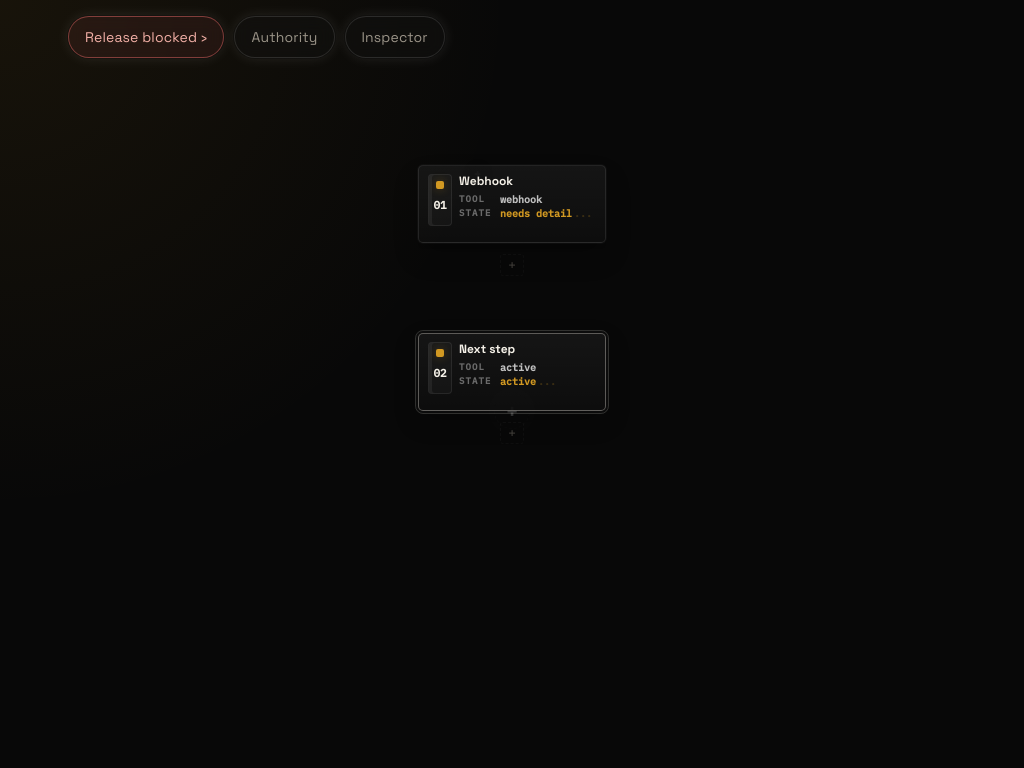
it: MoonBuildPage edge dismiss › clicking away dismisses the selected gate card
The image size is (1024, 768).
Click the button named "Select gate between Webhook and Next step": x=478, y=174 [464,160,492,188]
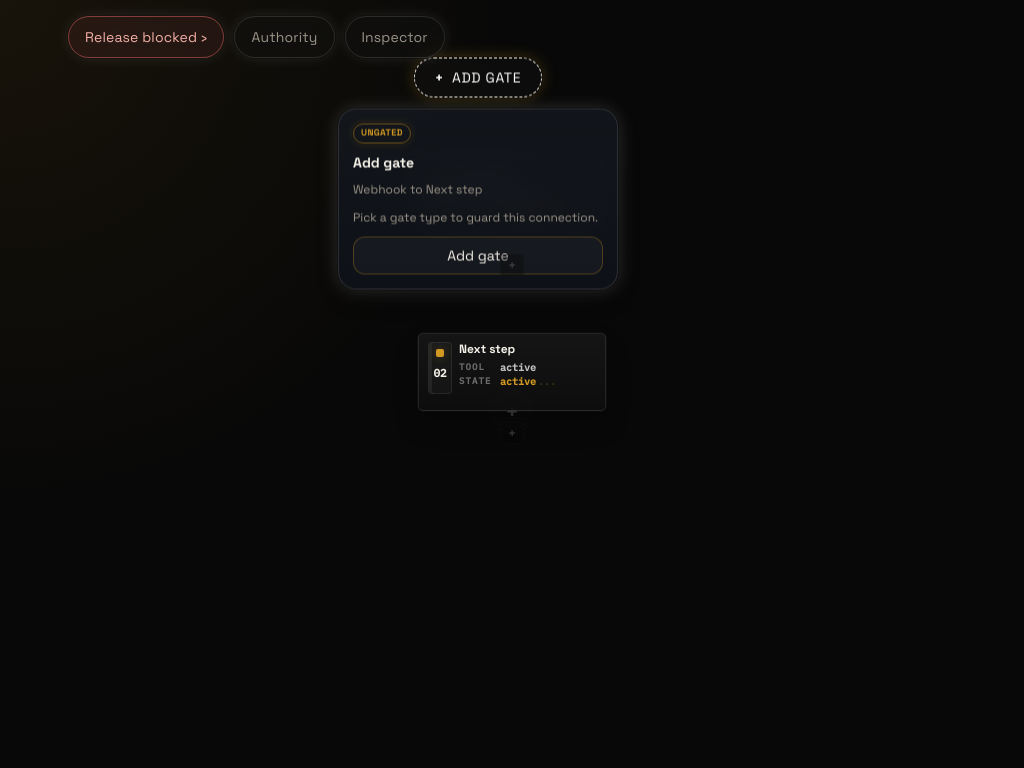
Expected: the button "Add gate" is shown, [353,236,603,274]
Press the mouse on the element showing "Release blocked › Authority Inspector": x=512, y=384 [0,0,1023,767]
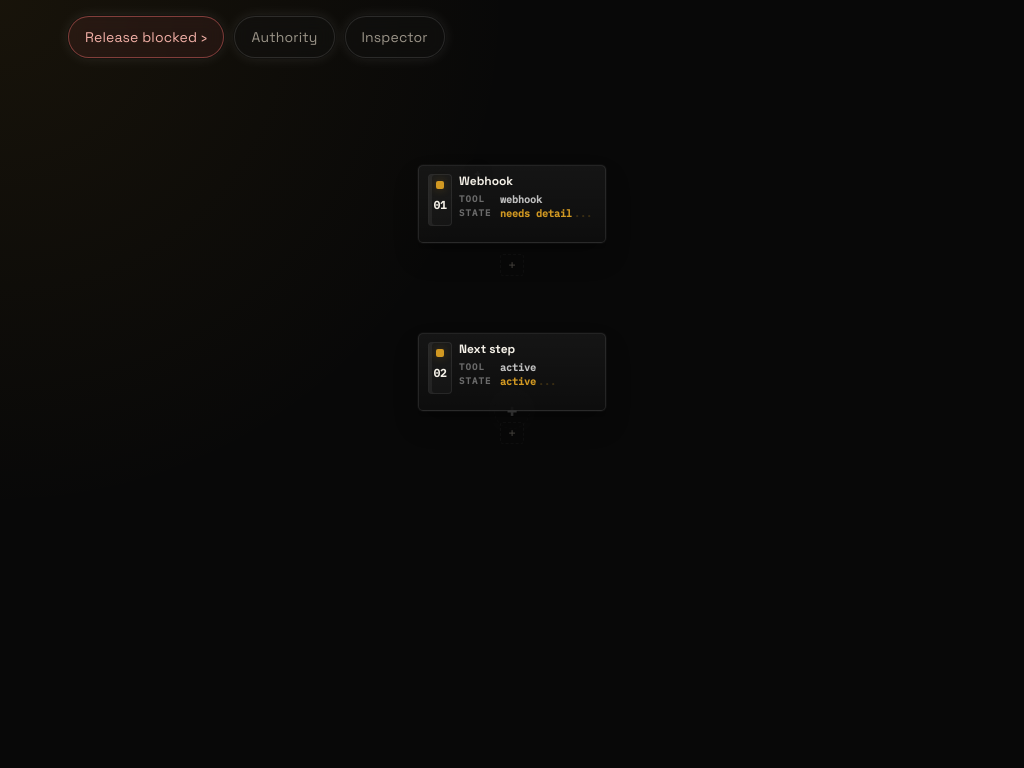
Expected: the button "Add gate" is gone
